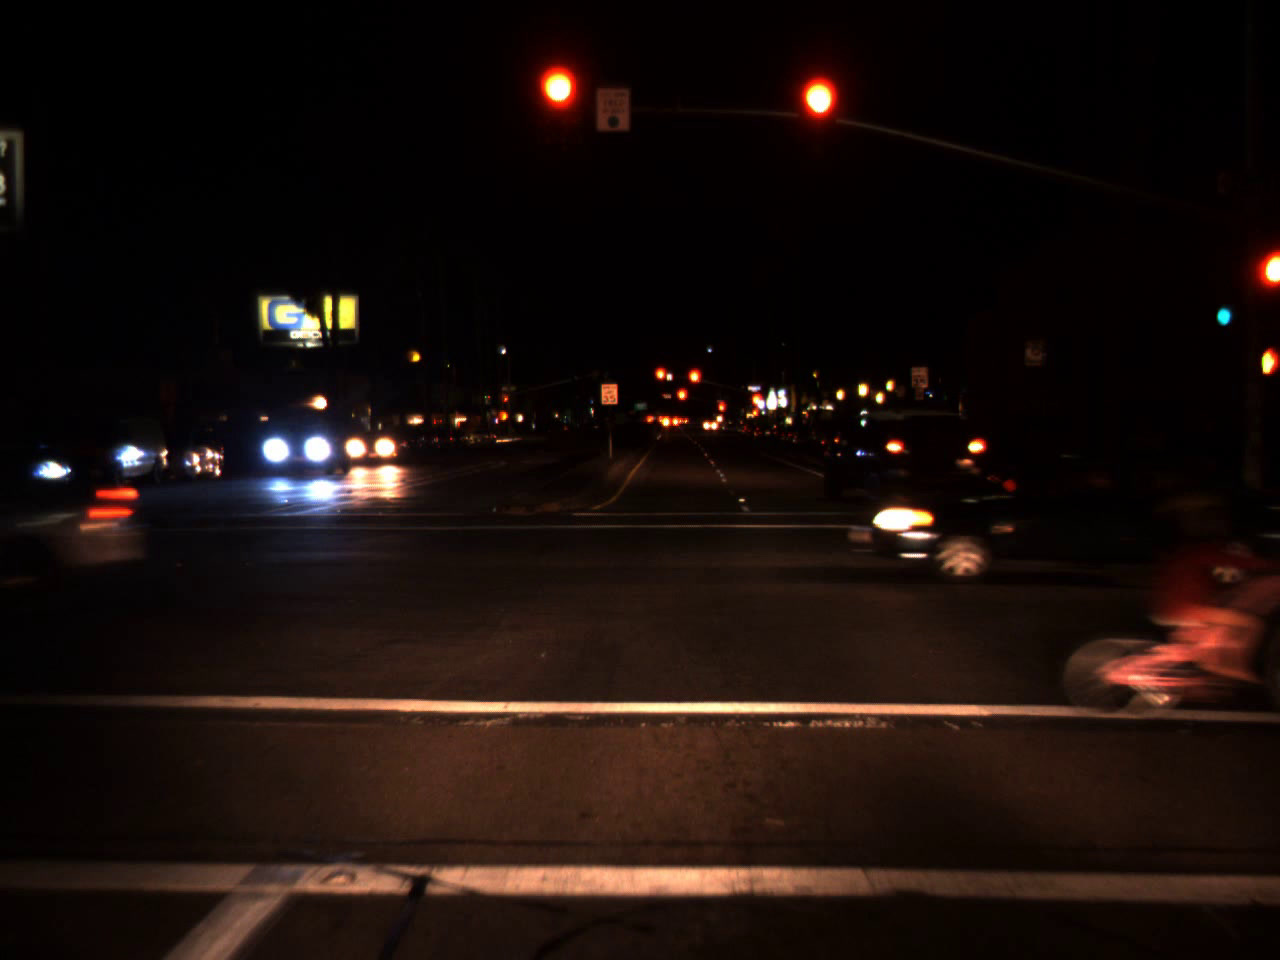stop: (539, 67, 578, 145), (800, 77, 836, 155), (1257, 254, 1280, 316), (686, 367, 702, 399), (653, 365, 668, 394), (675, 387, 688, 414), (750, 390, 762, 419), (717, 401, 724, 419), (503, 397, 509, 407)
